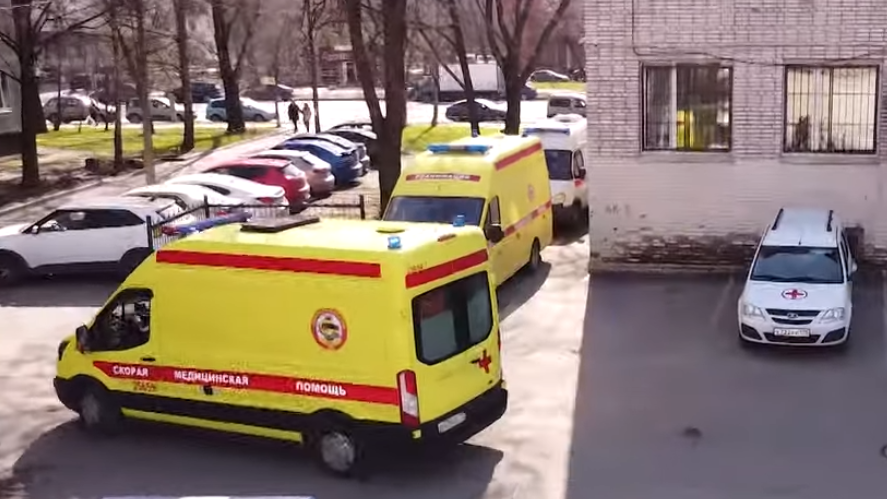ambulance: (736, 204, 860, 351), (521, 115, 589, 240)
intensive care unit: (53, 218, 505, 472), (385, 134, 546, 305)
non emergency car: (3, 192, 199, 282), (40, 92, 120, 127), (122, 94, 198, 122), (205, 98, 276, 124)
